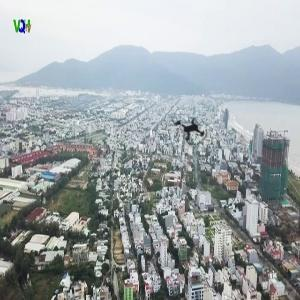drone: (160, 101, 221, 162)
